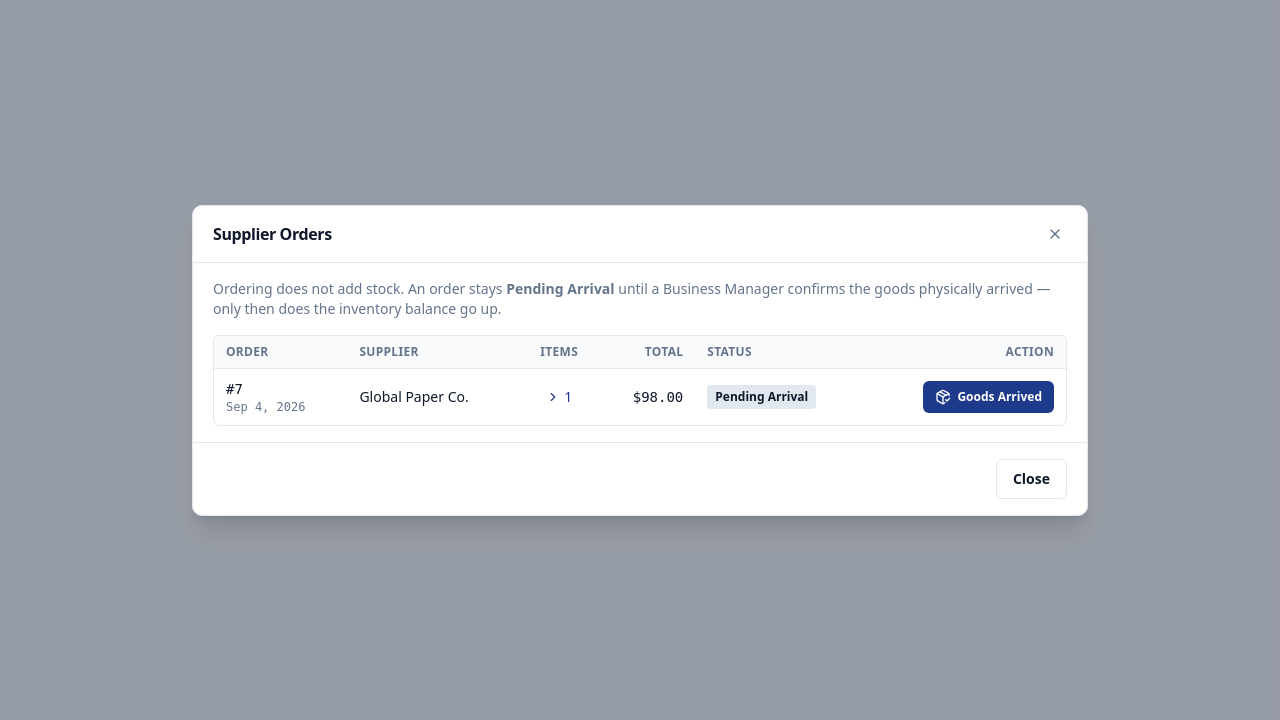
Scenario: SupplierOrdersModal › reveals what was actually ordered before you confirm it
Check: the text "Global Paper Co." is shown, box [347,368,519,424]
Check: the text "A3 Copy Paper, 250 Sheets" is not shown
Click the button named "show the items on supplier order #7" at (559, 396), box [540,384,578,408]
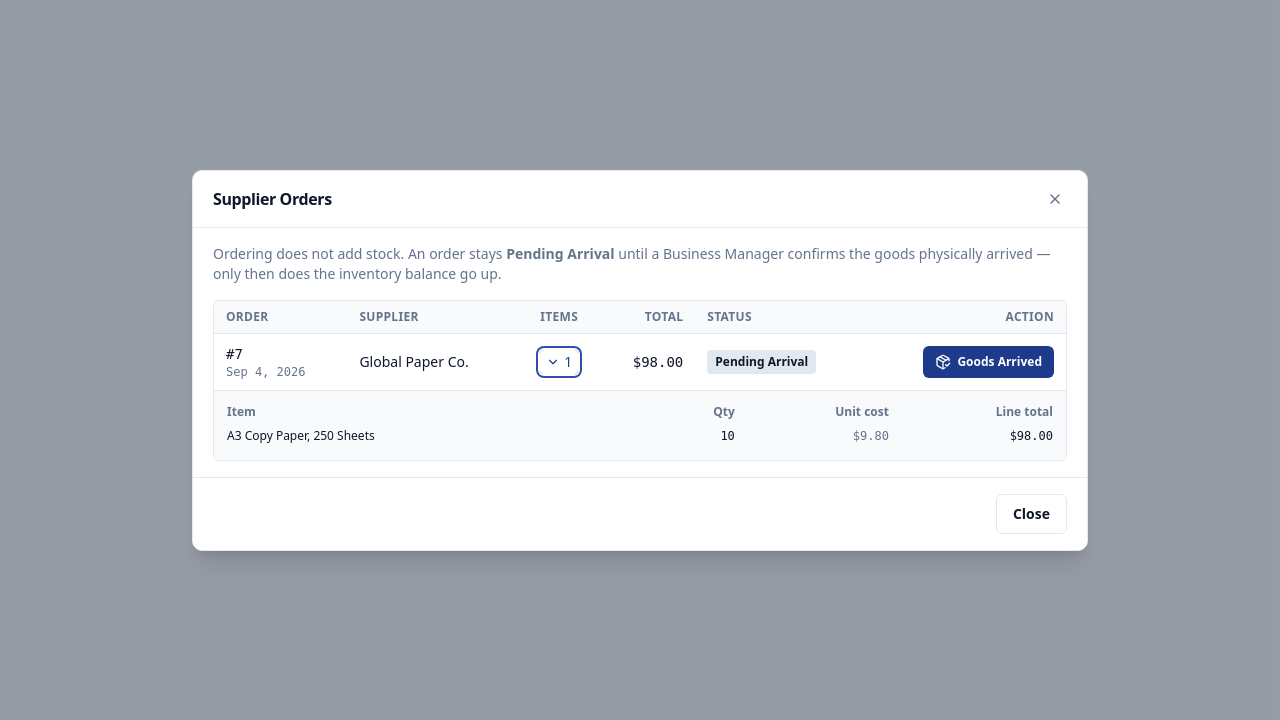
Check: the text "A3 Copy Paper, 250 Sheets" is shown, box [226,424,671,448]
Check: the text "10" is shown, box [671,424,736,448]
